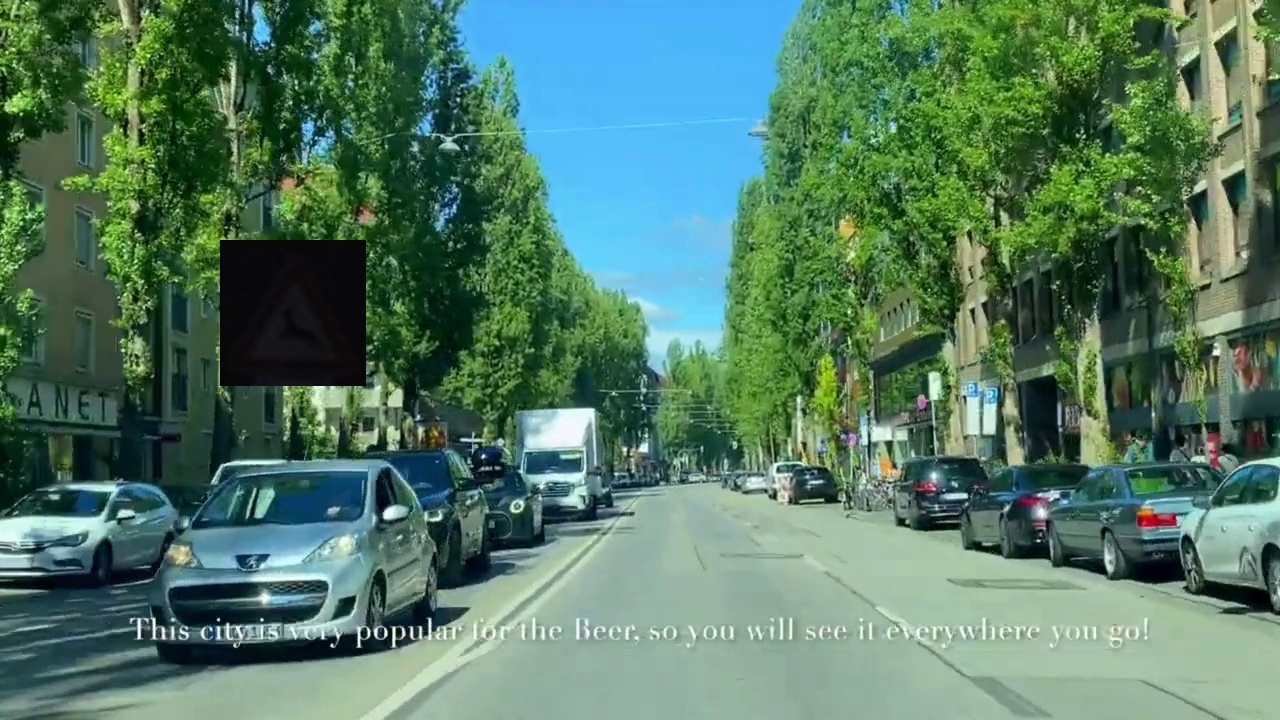Wild animals: (220, 240, 366, 386)
